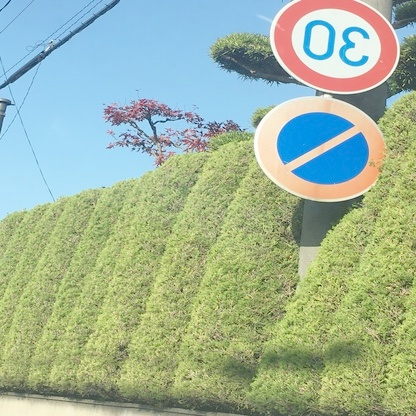Prohibition_sign: (256, 94, 401, 208)
Speed_sign: (269, 1, 406, 98)
